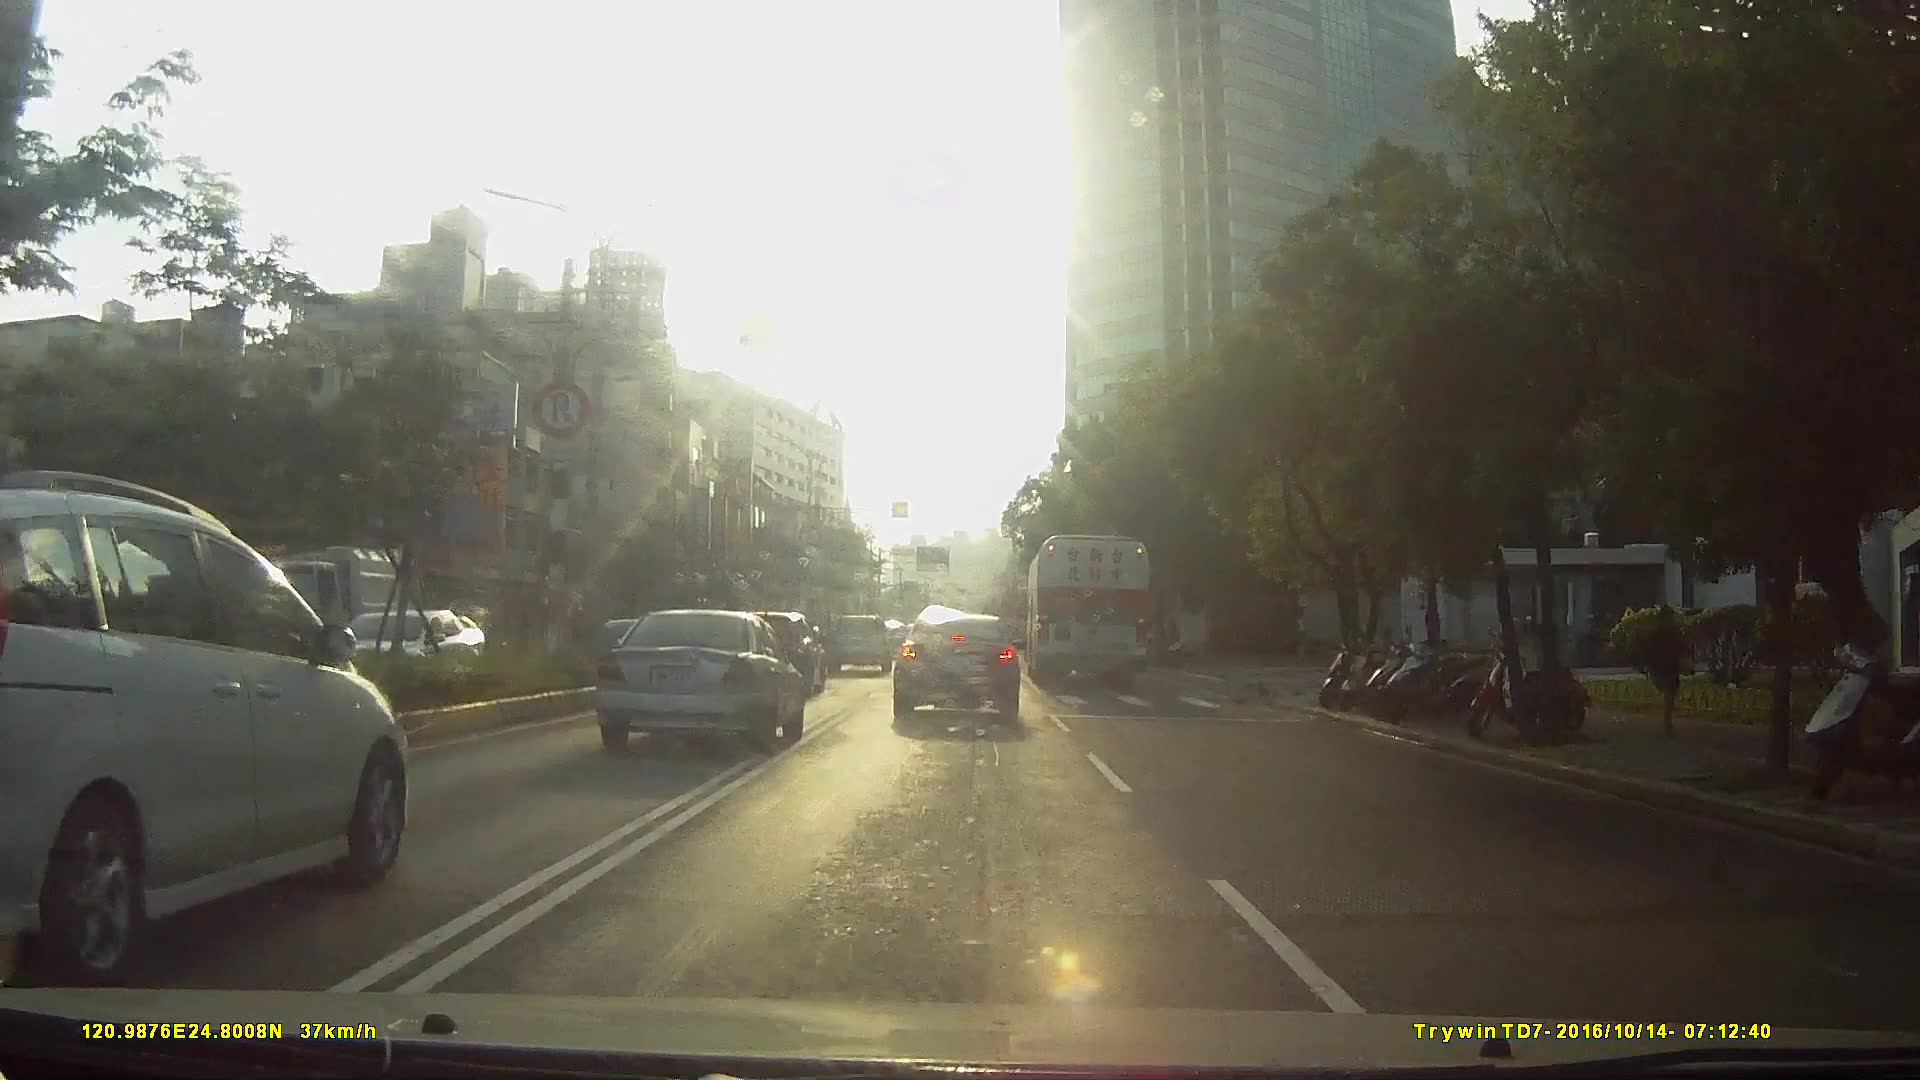pedestrian: (1647, 600, 1697, 728)
vehicle: (1, 472, 419, 973), (250, 556, 684, 868), (584, 599, 801, 749), (1022, 528, 1150, 688), (221, 537, 389, 655), (889, 603, 1020, 722), (334, 602, 486, 700), (822, 606, 890, 672)
